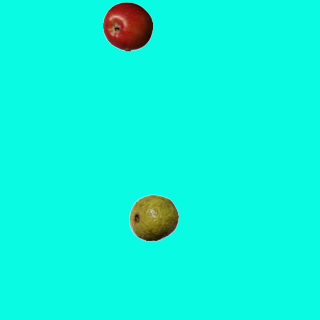Apple Braeburn: (102, 1, 152, 51)
Guava: (128, 192, 178, 242)
